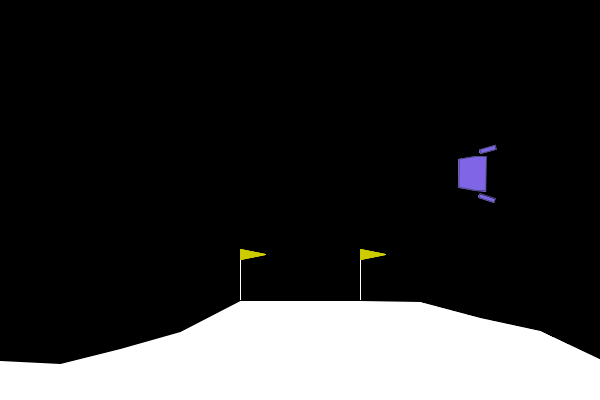lander: (456, 144, 497, 204)
